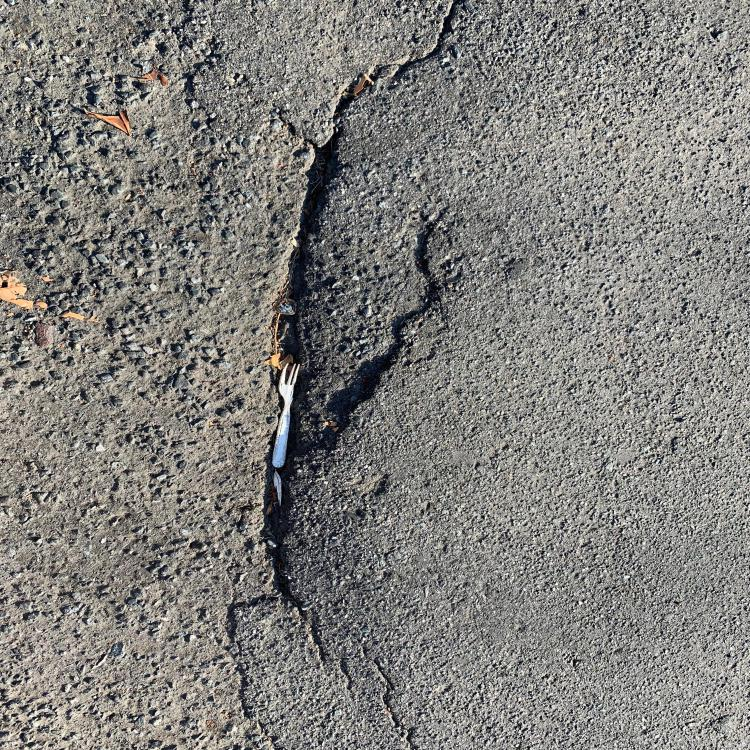Metal bottle cap: (272, 298, 296, 315)
Other plastic wrapper: (274, 471, 282, 506)
